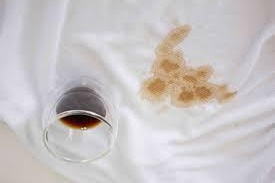coffee: (149, 69, 209, 99), (157, 44, 178, 66), (211, 86, 231, 99), (171, 28, 190, 40)
